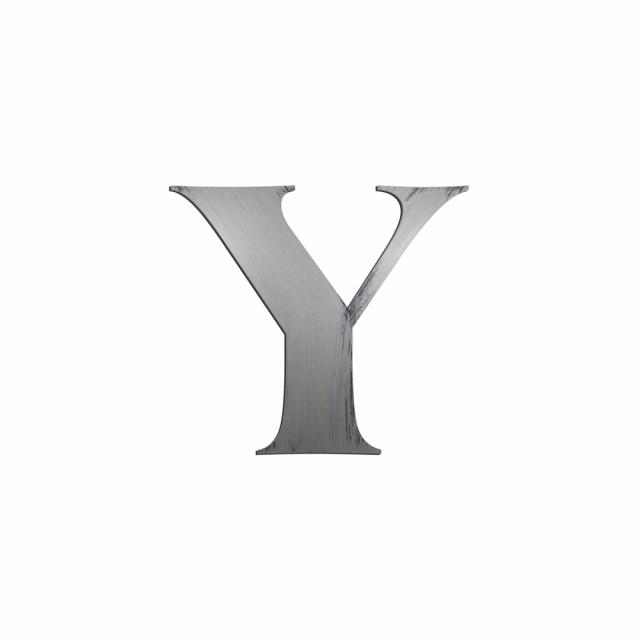Y: (133, 141, 484, 514)
